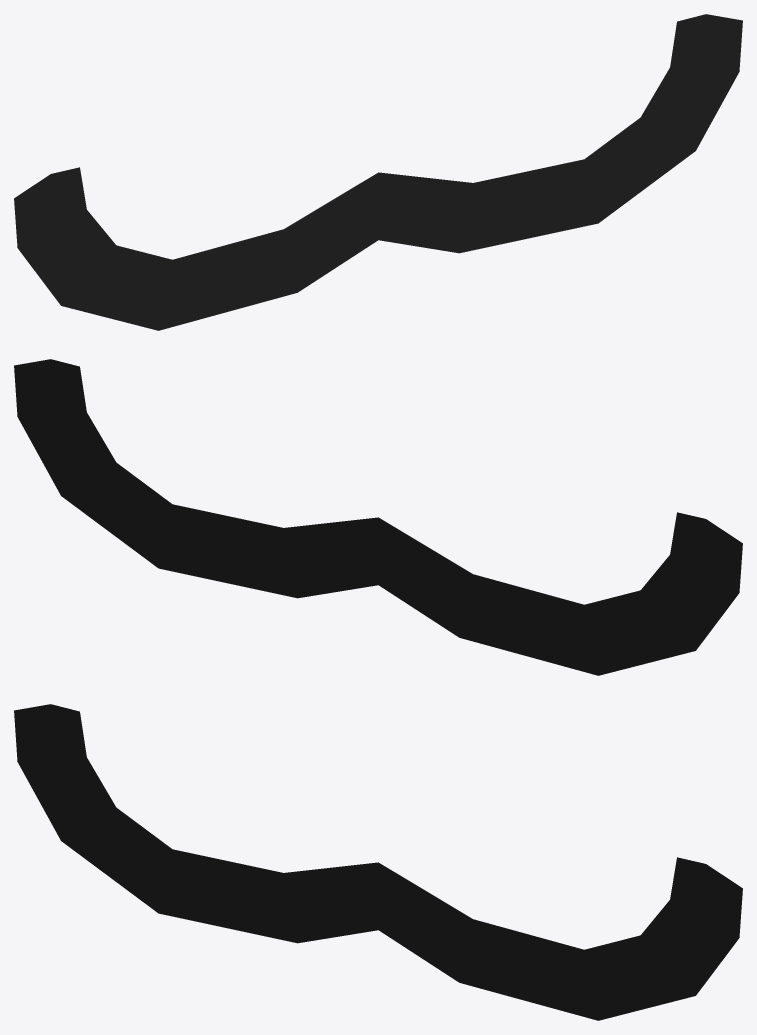
File: mouth_4.fbx
3 renders of one model, top to bottom at view 1: azimuth 30°, elevation 25°; view 2: azimuth 150°, elevation 25°; view 3: azimuth 330°, elevation 25°, orthographic.
Parts seen in each view (by area): view 1: mouth_4; view 2: mouth_4; view 3: mouth_4.
Boxes of the visible parts, x1,y1,x2,y2 form: mouth_4: (14,14,742,330); mouth_4: (14,359,742,675); mouth_4: (14,704,742,1020).
Size of the model in its own units: 0.3198 by 0.0768 by 5.6e-06.
